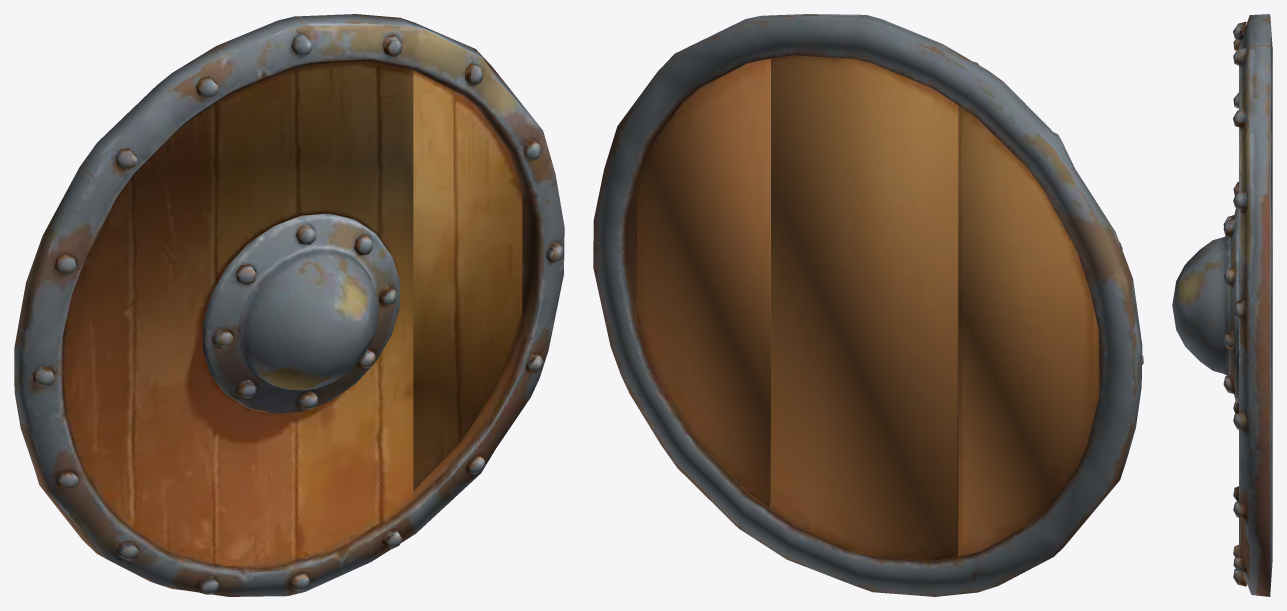
File: shield_rare_a_violet.glb
3 renders of one model, left to right at view 1: azimuth 30°, elevation 25°; view 2: azimuth 150°, elevation 25°; view 3: azimuth 270°, elevation 25°, orthographic. The views are drawn at different scales.
Visible parts, largest first — view 1: tripo_node_f7783e4c-b576-4f22-851e-c00c5b85049a; view 2: tripo_node_f7783e4c-b576-4f22-851e-c00c5b85049a; view 3: tripo_node_f7783e4c-b576-4f22-851e-c00c5b85049a.
Part boxes in pixels (<box>): tripo_node_f7783e4c-b576-4f22-851e-c00c5b85049a: <box>14,14,564,596</box>; tripo_node_f7783e4c-b576-4f22-851e-c00c5b85049a: <box>593,14,1143,596</box>; tripo_node_f7783e4c-b576-4f22-851e-c00c5b85049a: <box>1172,14,1272,596</box>.
Bounding box in the file's own units: 1 × 1 × 0.1725.
1 material, 1 textured.
